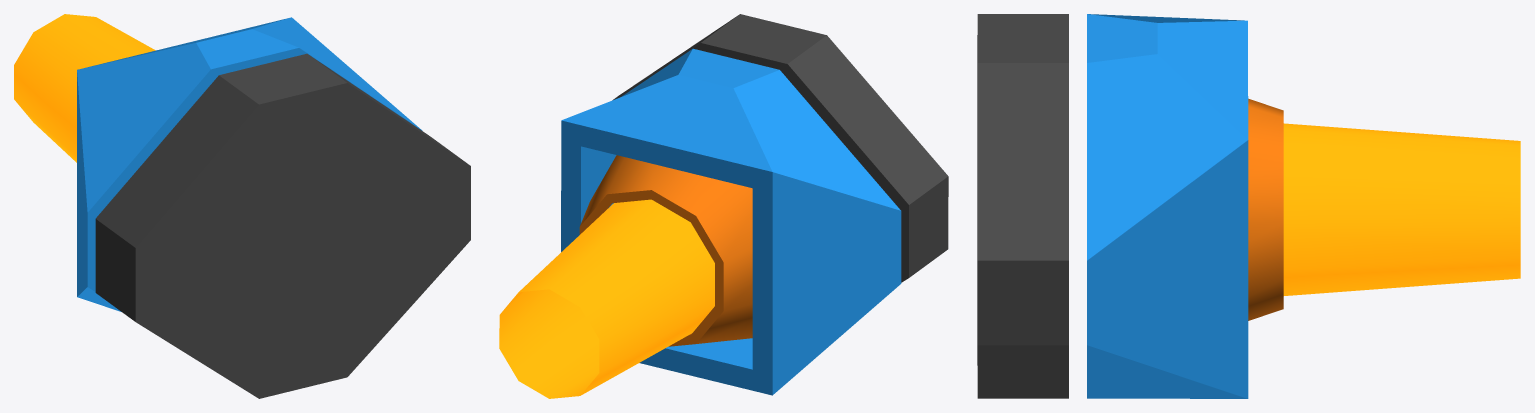
The model's file is teleport.glb.
The picture shows the model from 3 angles, left to right: view 1: azimuth 30°, elevation 25°; view 2: azimuth 150°, elevation 25°; view 3: azimuth 270°, elevation 25°; orthographic projection. The views are drawn at different scales.
Parts seen in each view (by area): view 1: Plane.007, boost-part.013; view 2: Plane.007, boost-part.013; view 3: Plane.007, boost-part.013.
Boxes of the visible parts, <box> form: Plane.007: <box>77,17,470,398</box>; boost-part.013: <box>14,14,155,162</box>; Plane.007: <box>561,14,948,395</box>; boost-part.013: <box>499,199,714,398</box>; Plane.007: <box>977,14,1283,398</box>; boost-part.013: <box>1283,123,1520,295</box>.
Bounding box in the file's own units: 0.1713 × 0.1437 × 0.2109.
